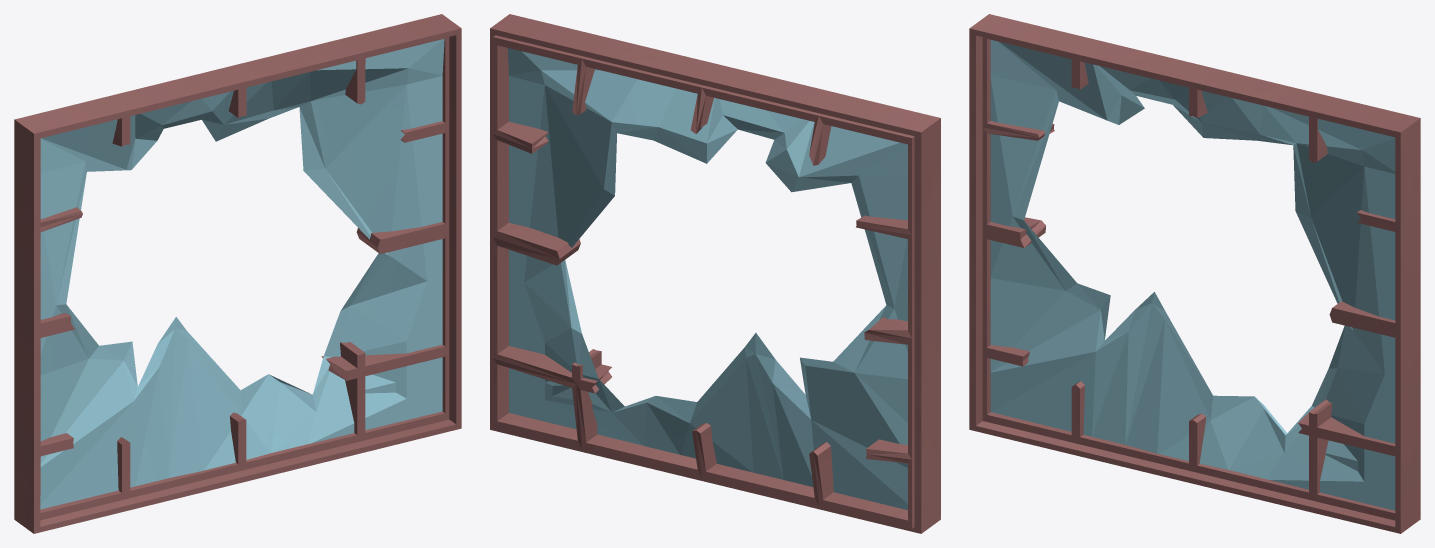
Rendered from window_2.obj.
3 views of the same model, side by side, from view 1: azimuth 30°, elevation 25°; view 2: azimuth 150°, elevation 25°; view 3: azimuth 330°, elevation 25° (orthographic).
Visible parts, largest first — view 1: window_panel_2.001_Mesh, window_bars_2.001_Mesh; view 2: window_panel_2.001_Mesh, window_bars_2.001_Mesh; view 3: window_panel_2.001_Mesh, window_bars_2.001_Mesh.
Part boxes in pixels (box(x1,y1,x2,y2)): window_panel_2.001_Mesh: box(40, 39, 444, 509); window_bars_2.001_Mesh: box(14, 14, 461, 533); window_panel_2.001_Mesh: box(507, 48, 907, 510); window_bars_2.001_Mesh: box(490, 14, 940, 533); window_panel_2.001_Mesh: box(990, 40, 1395, 510); window_bars_2.001_Mesh: box(969, 14, 1420, 533).
Bounding box in the file's own units: 2.1 × 1.87 × 0.2498.
